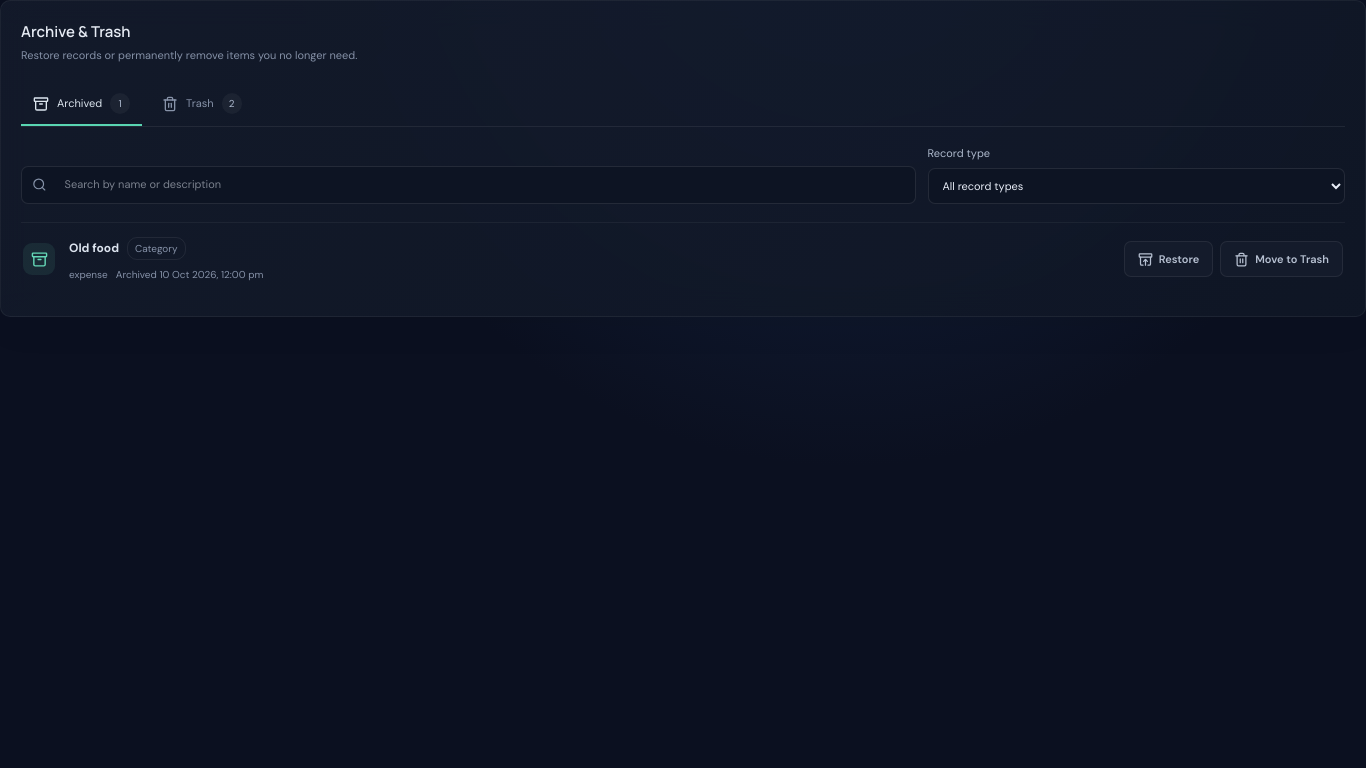
Scenario: AI proposal confirmation › Archive & Trash › requires confirmation to empty Trash and reports failures
Click the tab "Trash 2": [202, 104] box top-left (150, 83), bottom-right (254, 126)
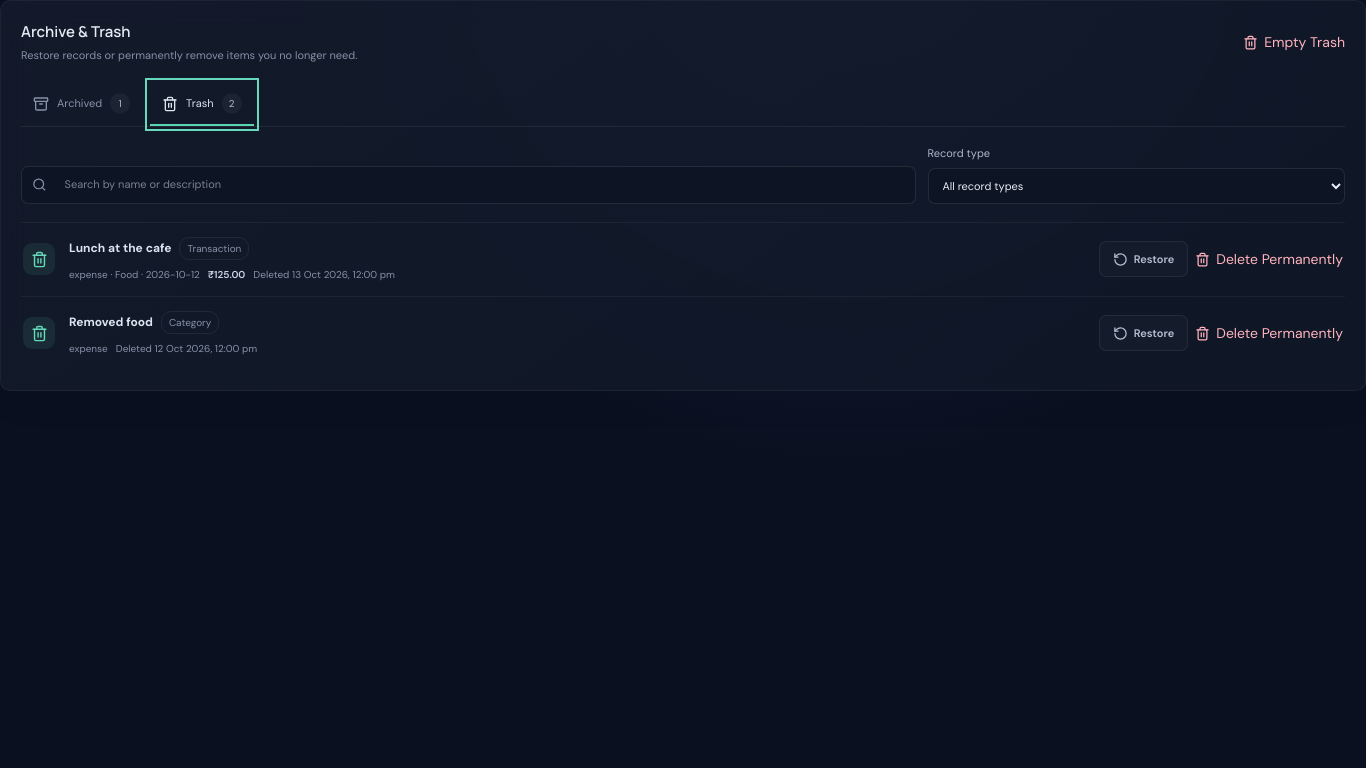
Click the button "Empty Trash": [1294, 42] box top-left (1243, 32), bottom-right (1345, 53)
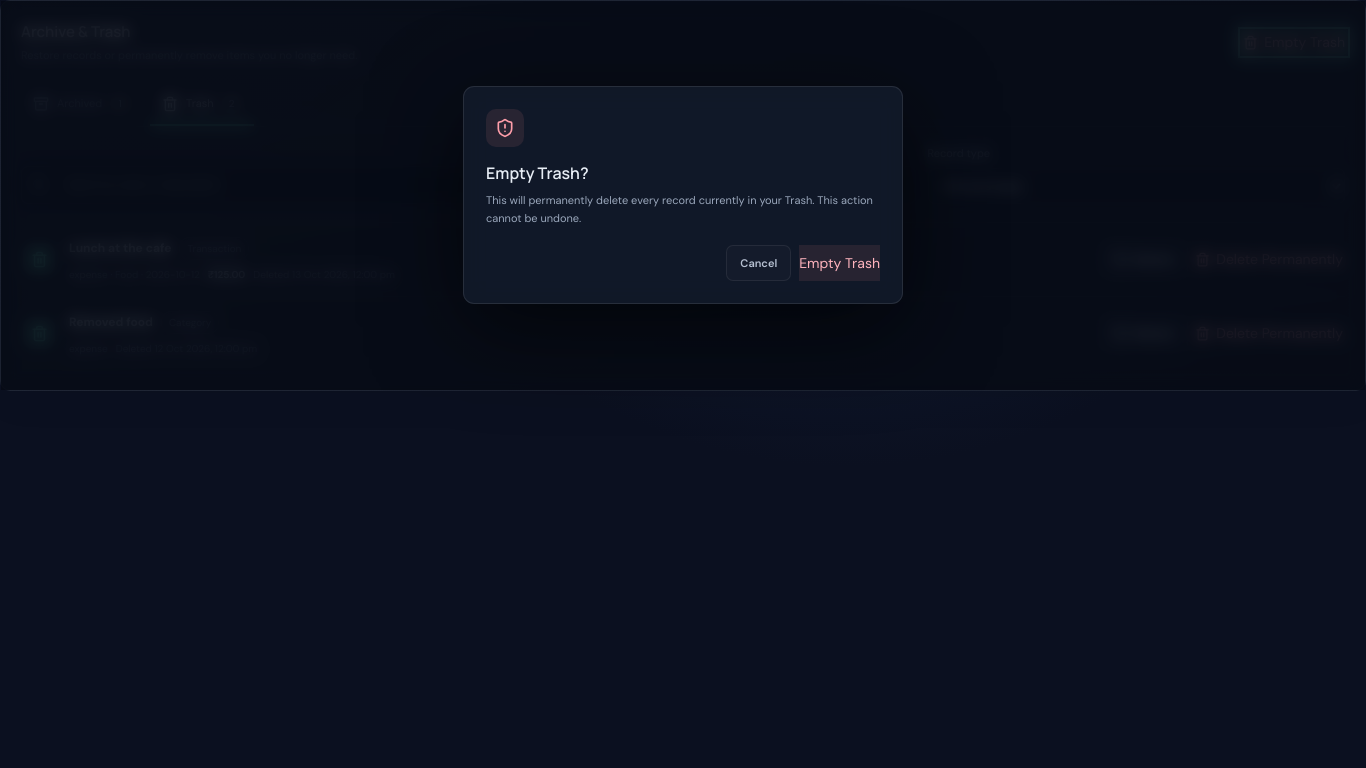
Expected: the text "cannot be undone" is shown, top-left (486, 193), bottom-right (873, 225)
Click the button with class "danger-button" showing "Empty Trash": [840, 263] box top-left (799, 245), bottom-right (880, 281)
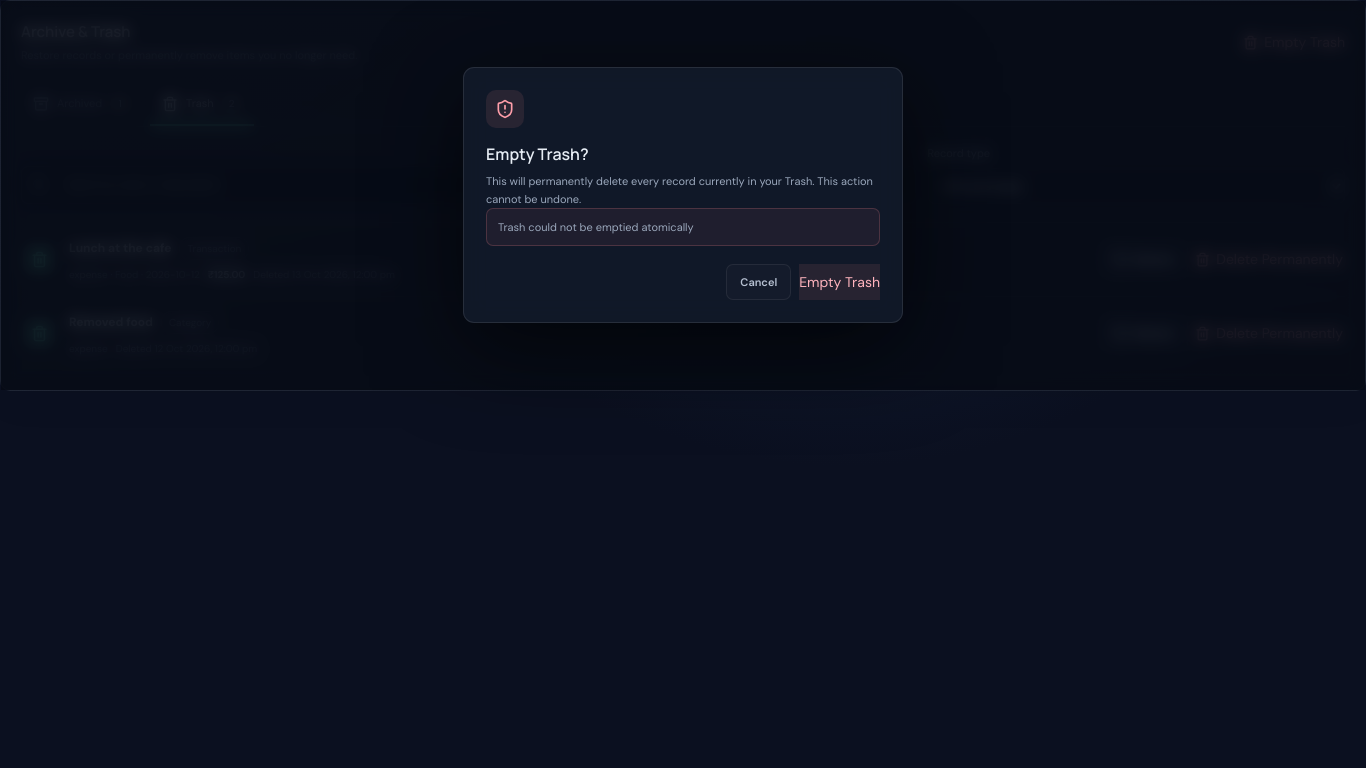
Expected: the text "Trash could not be emptied atomically" is shown, top-left (486, 208), bottom-right (880, 246)
